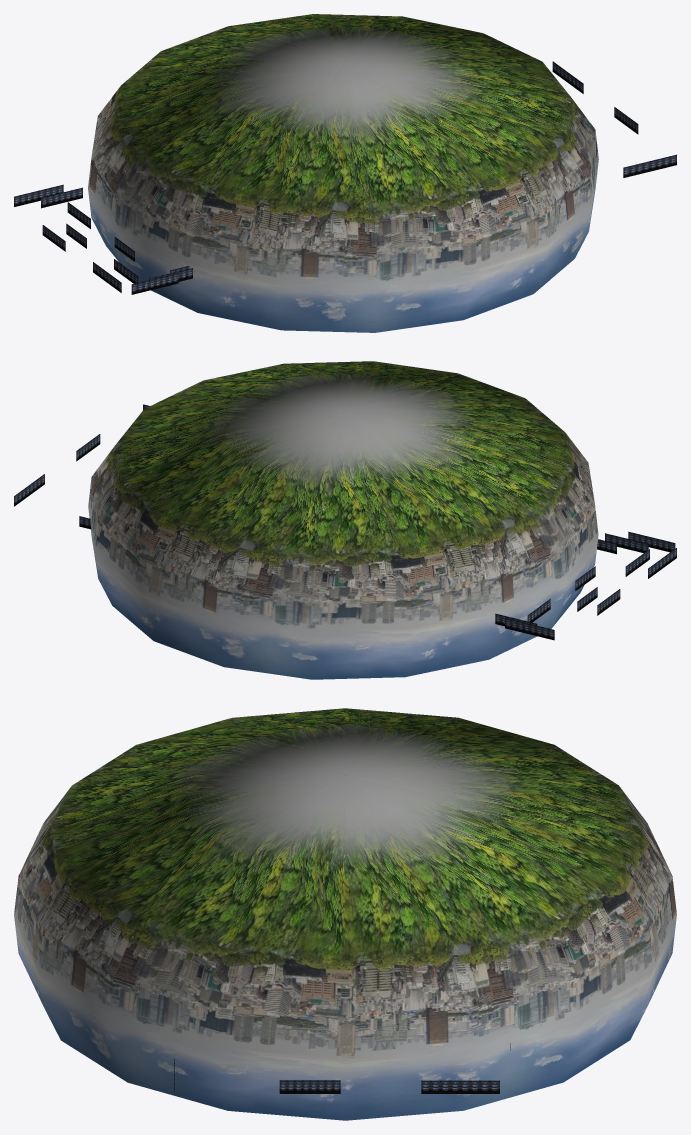
The model's file is Arena.glb.
3 views of the same model, one above another, from view 1: azimuth 30°, elevation 25°; view 2: azimuth 150°, elevation 25°; view 3: azimuth 270°, elevation 25° (orthographic). The views are drawn at different scales.
Parts seen in each view (by area): view 1: Arena; view 2: Arena; view 3: Arena.
Part boxes in pixels (left/top/right/bottom): Arena: left=14, top=14, right=676, bottom=332; Arena: left=14, top=361, right=676, bottom=679; Arena: left=14, top=708, right=676, bottom=1120.
Bounding box in the file's own units: 703 × 205 × 573.
Materials: 15 (14 with a texture image).
